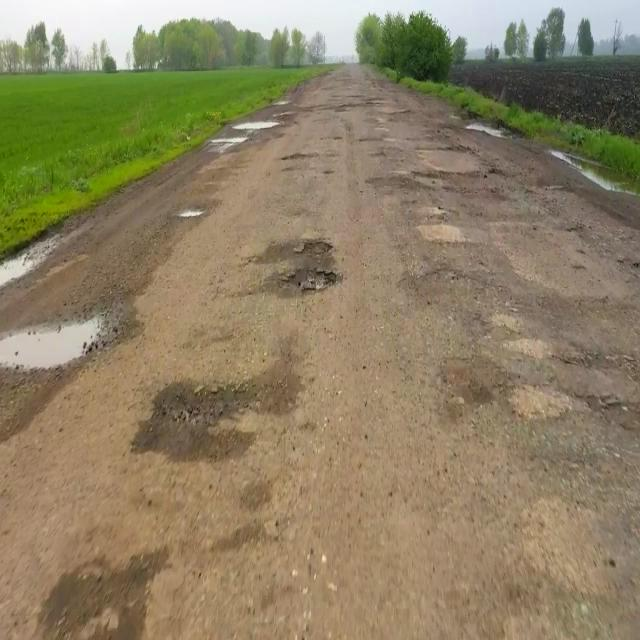Pothole: (140, 380, 253, 498), (416, 101, 516, 220), (260, 220, 342, 340), (0, 305, 124, 384), (0, 212, 64, 292), (205, 104, 279, 168)
